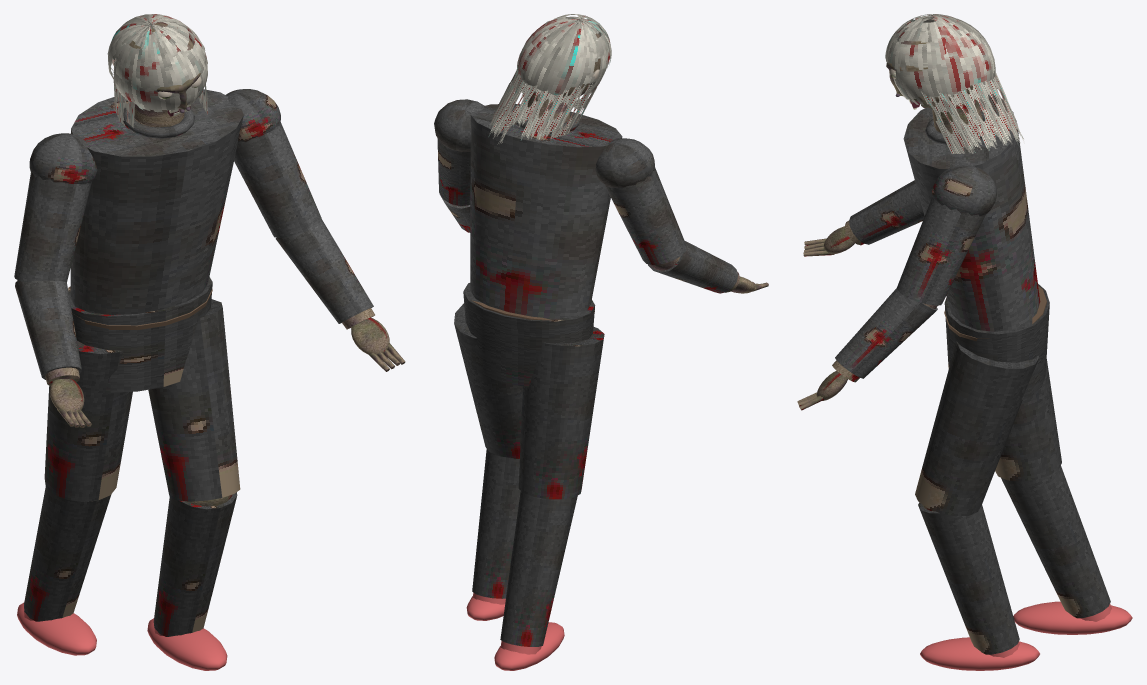
The model's file is Zombie_112.glb.
The picture shows the model from 3 angles, left to right: view 1: azimuth 30°, elevation 25°; view 2: azimuth 150°, elevation 25°; view 3: azimuth 270°, elevation 25°; orthographic projection. The views are drawn at different scales.
Visible parts, largest first — view 1: Zombie_112, object 44, object 12, object 4, object 45, object 13, object 5, object 18; view 2: Zombie_112, object 45, object 4, object 44, object 50, object 52, object 53, object 51, object 54; view 3: Zombie_112, object 45, object 12, object 4, object 44, object 46, object 48, object 47, object 49, object 5, object 13, object 18.
Boxes of the visible parts, left/top/right/bottom form: Zombie_112: left=14, top=89, right=322, bottom=670; object 44: left=110, top=14, right=207, bottom=89; object 12: left=275, top=220, right=373, bottom=323; object 4: left=15, top=280, right=81, bottom=379; object 45: left=107, top=14, right=207, bottom=112; object 13: left=351, top=317, right=389, bottom=354; object 5: left=50, top=379, right=84, bottom=412; object 18: left=119, top=23, right=200, bottom=110; Zombie_112: left=434, top=92, right=686, bottom=670; object 45: left=517, top=16, right=606, bottom=101; object 4: left=647, top=241, right=737, bottom=293; object 44: left=531, top=14, right=611, bottom=74; object 50: left=488, top=81, right=538, bottom=144; object 52: left=521, top=89, right=565, bottom=140; object 53: left=536, top=84, right=584, bottom=139; object 51: left=513, top=85, right=547, bottom=130; object 54: left=551, top=82, right=595, bottom=138; Zombie_112: left=896, top=94, right=1132, bottom=670; object 45: left=893, top=16, right=995, bottom=105; object 12: left=835, top=288, right=937, bottom=378; object 4: left=849, top=180, right=924, bottom=244; object 44: left=885, top=14, right=981, bottom=70; object 46: left=921, top=91, right=973, bottom=153; object 48: left=961, top=82, right=1006, bottom=150; object 47: left=937, top=90, right=992, bottom=152; object 49: left=976, top=79, right=1018, bottom=145; object 5: left=824, top=226, right=854, bottom=254; object 13: left=816, top=371, right=847, bottom=400; object 18: left=886, top=22, right=973, bottom=109.
Bounding box in the file's own units: 0.9007 × 1.73 × 0.8422.
16 materials, 6 textured.
